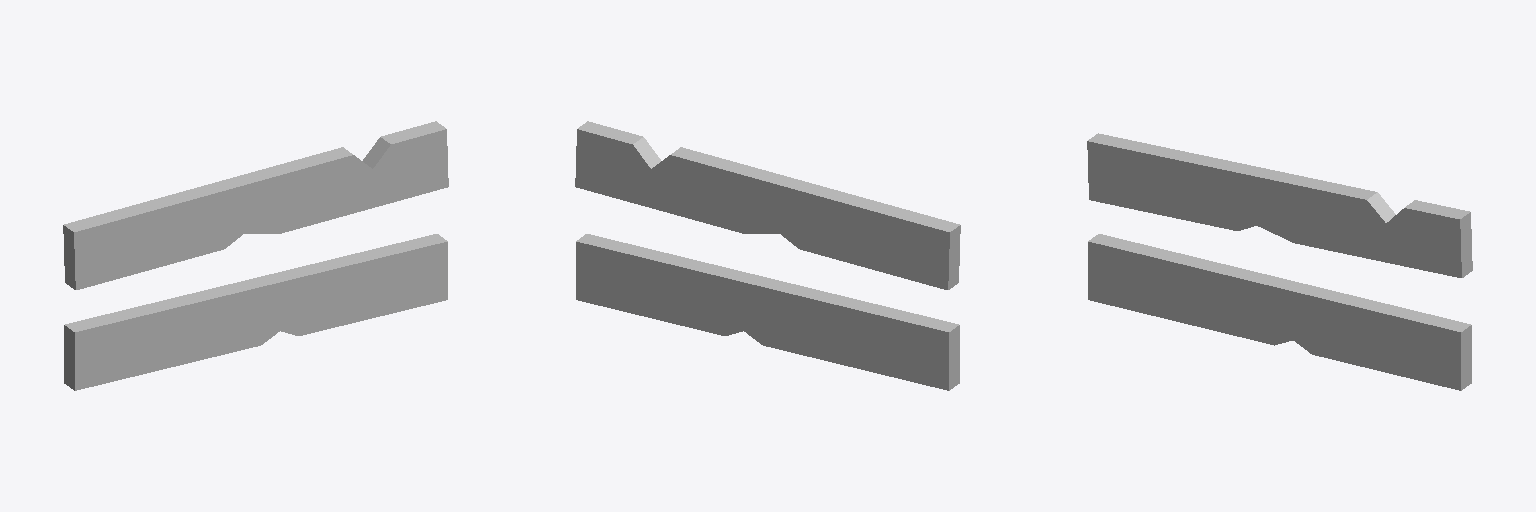
The model's file is Prop_Fence_Boards_1.obj.
3 views of the same model, side by side, from view 1: azimuth 30°, elevation 25°; view 2: azimuth 150°, elevation 25°; view 3: azimuth 330°, elevation 25° (orthographic).
Parts seen in each view (by area): view 1: object1, object2; view 2: object1, object2; view 3: object1, object2.
Part boxes in pixels (x1,y1,x2,y2): object1: (64, 234, 447, 390); object2: (63, 121, 448, 289); object1: (576, 234, 959, 390); object2: (575, 121, 960, 289); object1: (1088, 234, 1471, 390); object2: (1087, 133, 1472, 277).
Size of the model in its own units: 1 by 0.4384 by 0.05.